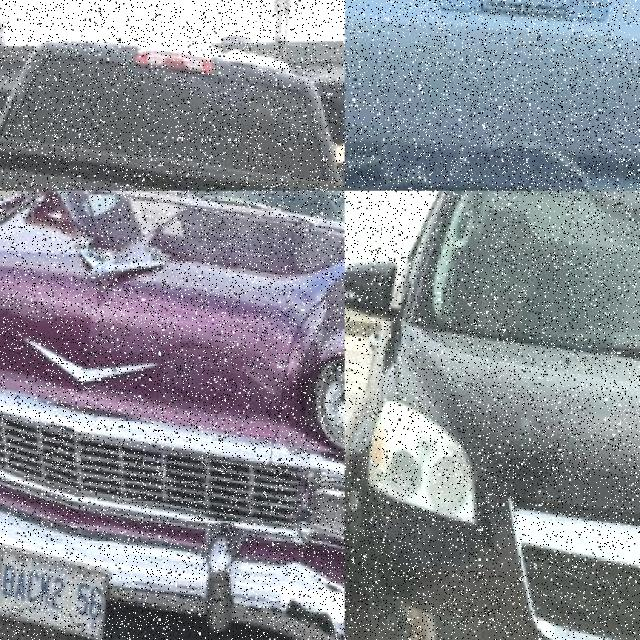licenseplate: (0, 549, 100, 640)
